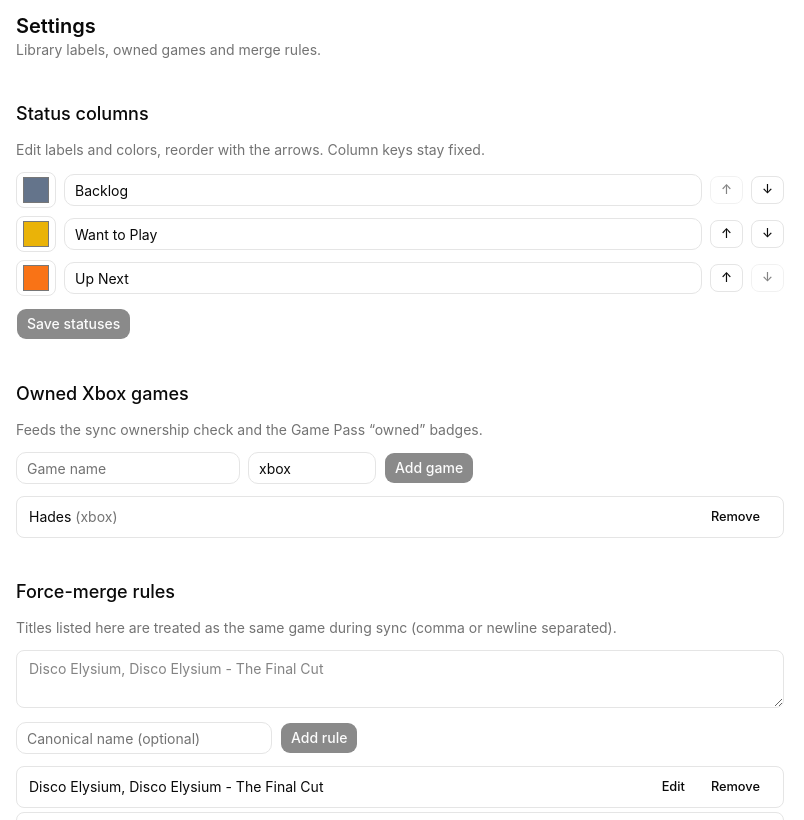
Test: SettingsPage › reorders statuses with the move buttons
Step 1. Click the button named "Move Backlog down" → point(768, 190), box [751,176,784,204]
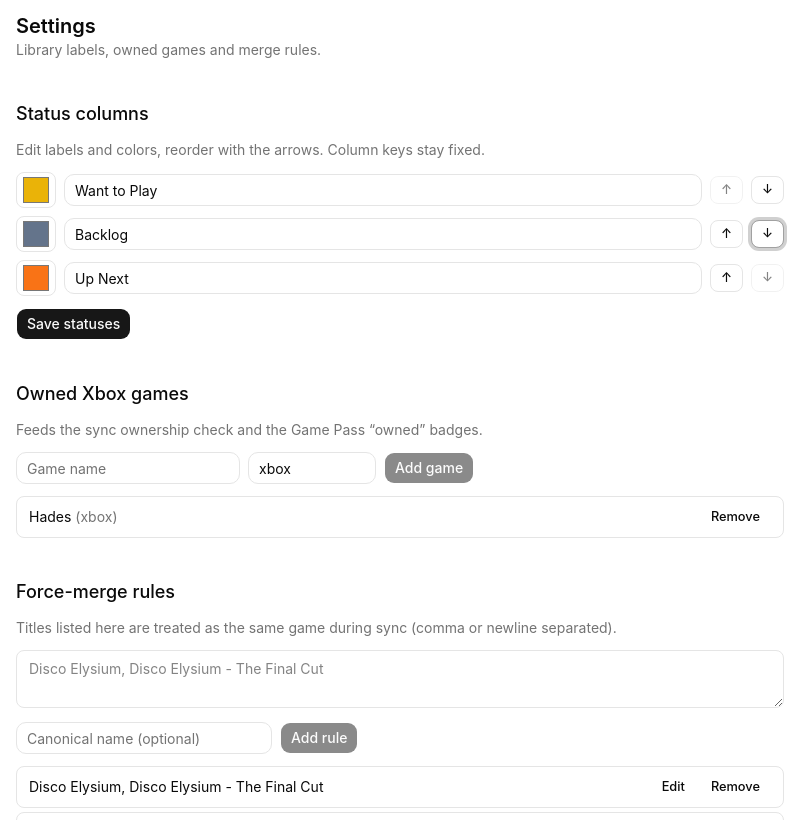
Step 2. Click the button "Save statuses" → point(74, 324), box [16,308,131,340]
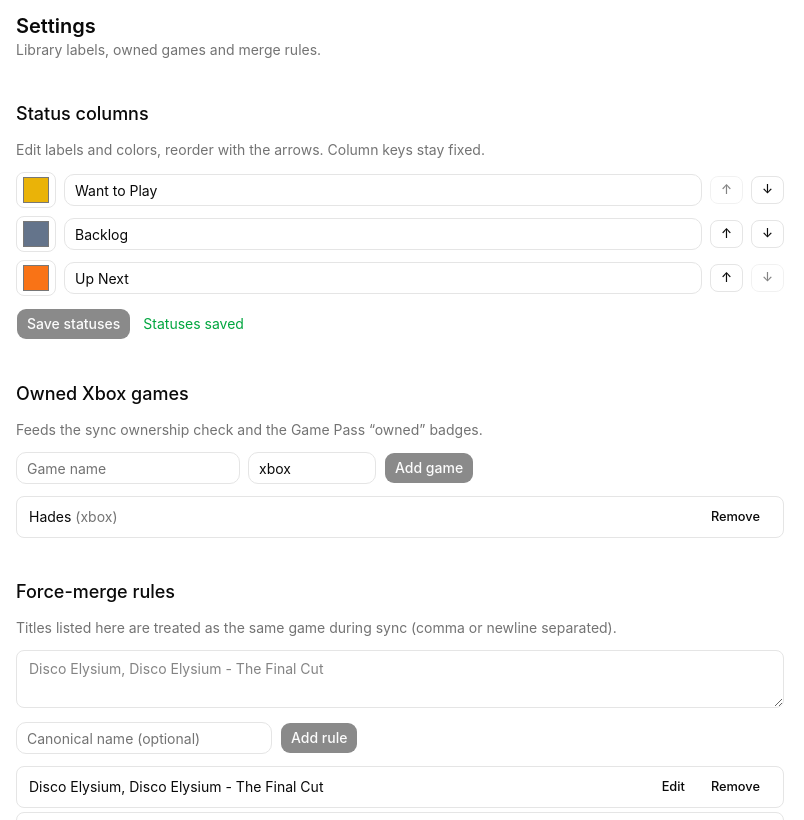
Result: the text "Statuses saved" is shown at [143,314,244,334]
